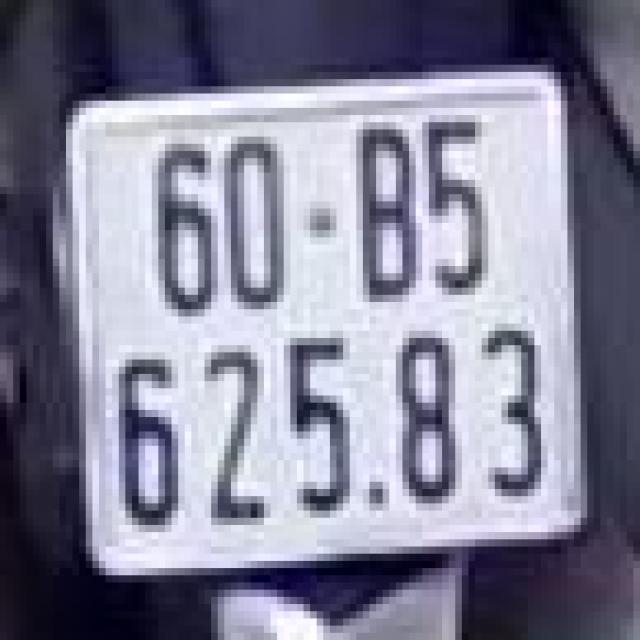0: (214, 133, 294, 313)
2: (188, 334, 267, 536)
3: (472, 313, 558, 507)
5: (426, 97, 498, 299), (287, 320, 360, 514)
6: (142, 136, 228, 324), (109, 345, 181, 525)
8: (386, 328, 465, 522)
B: (350, 112, 422, 306)
